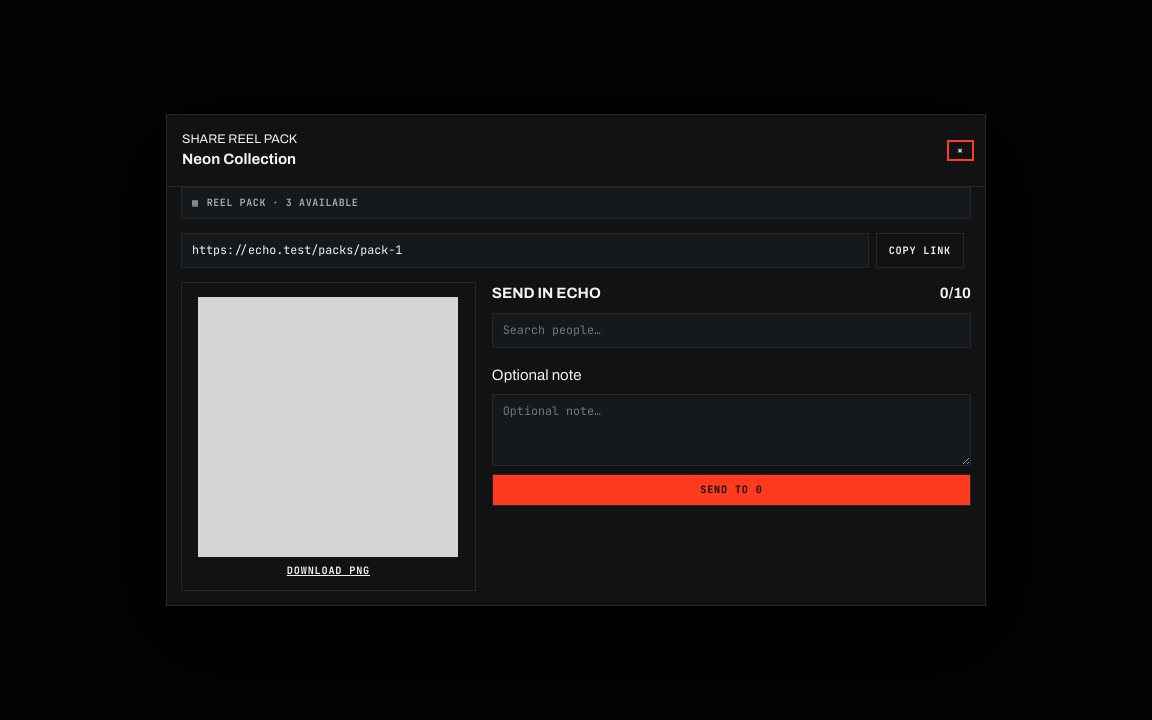
Scenario: ReelShareDialog copy link › copies the canonical link for a pack
Expected: the field showing "https://echo.test/packs/pack-1" is shown, [181,233,869,268]
Step 1. Click the button "COPY LINK" → coordinates (920, 250), box [876,233,964,268]
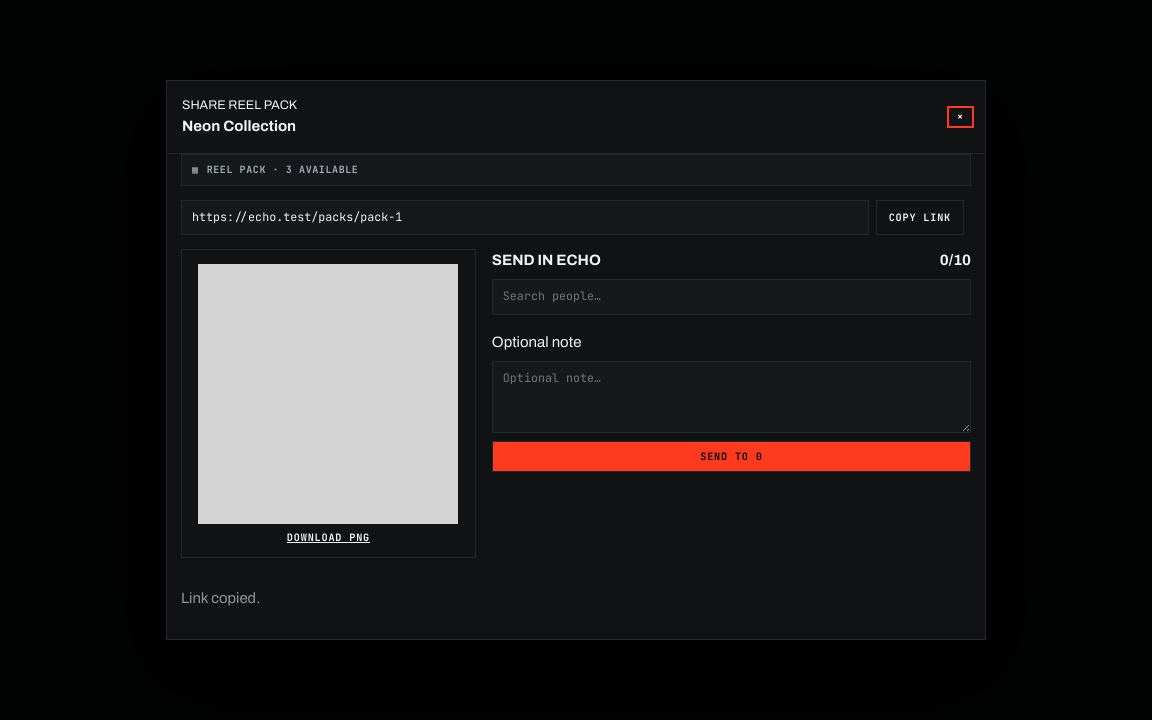
Result: the text "Link copied." is shown at [181,590,260,606]
